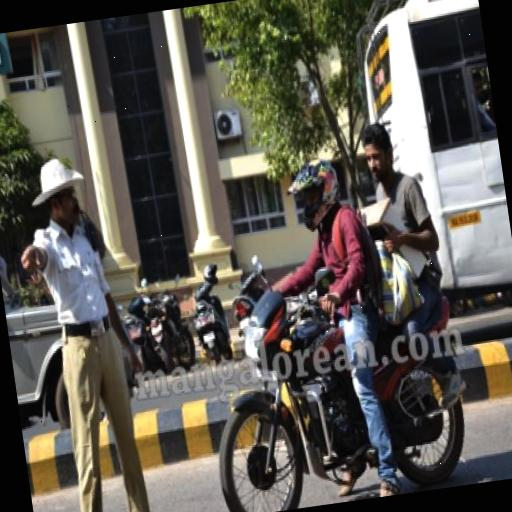helmet: (187, 128, 416, 502)
